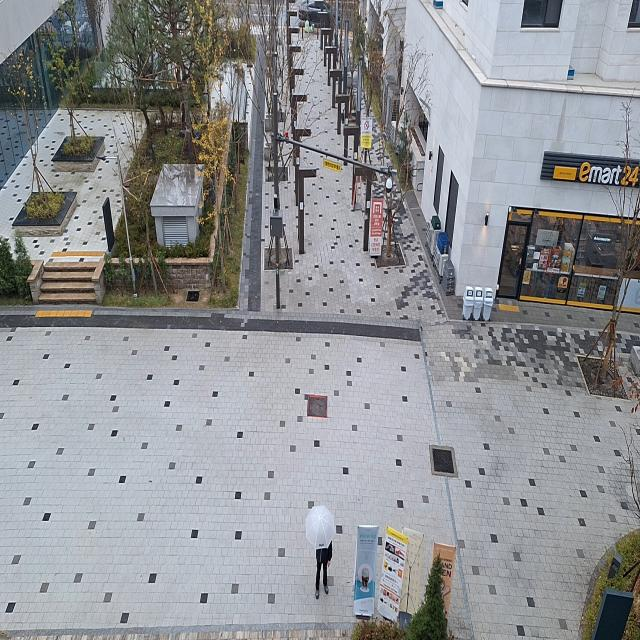Car: (296, 0, 347, 31)
